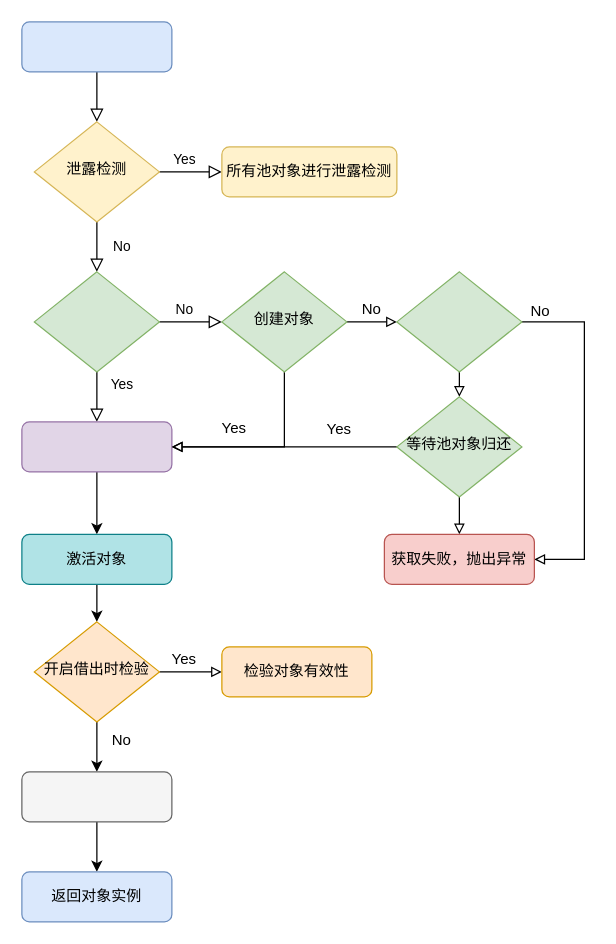
The diagram is 616 pixels wide and 944 high, and some of its shapes have lost their labels. Each missing label, with the centre of its shape:
"分配对象" belongs at pixel 96 446.
"开启阻塞模式" belongs at pixel 459 321.
"更新对象状态" belongs at pixel 96 796.
"获取对象" belongs at pixel 96 46.
"非阻塞尝试获取" belongs at pixel 96 321.
